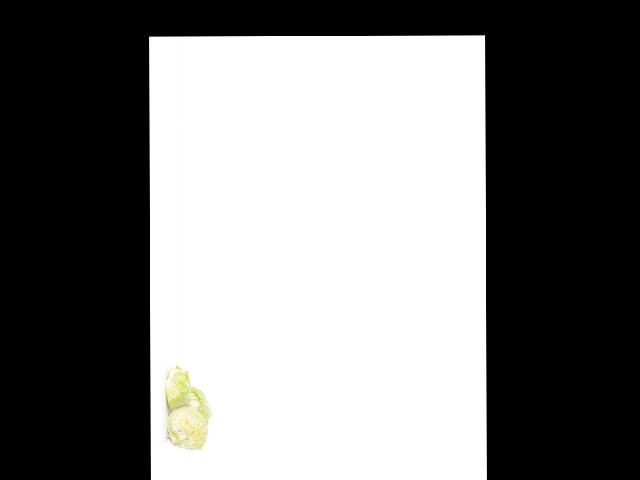lettuce: (182, 382, 213, 429)
